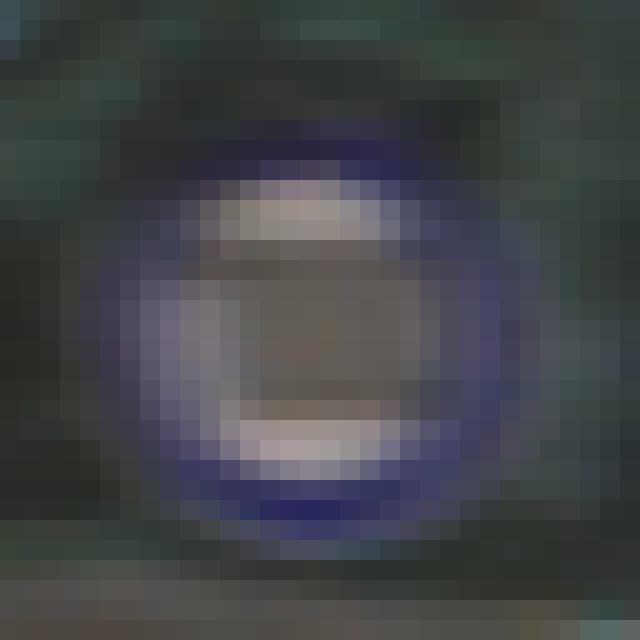SPEED LIMIT 100: (105, 127, 509, 547)
